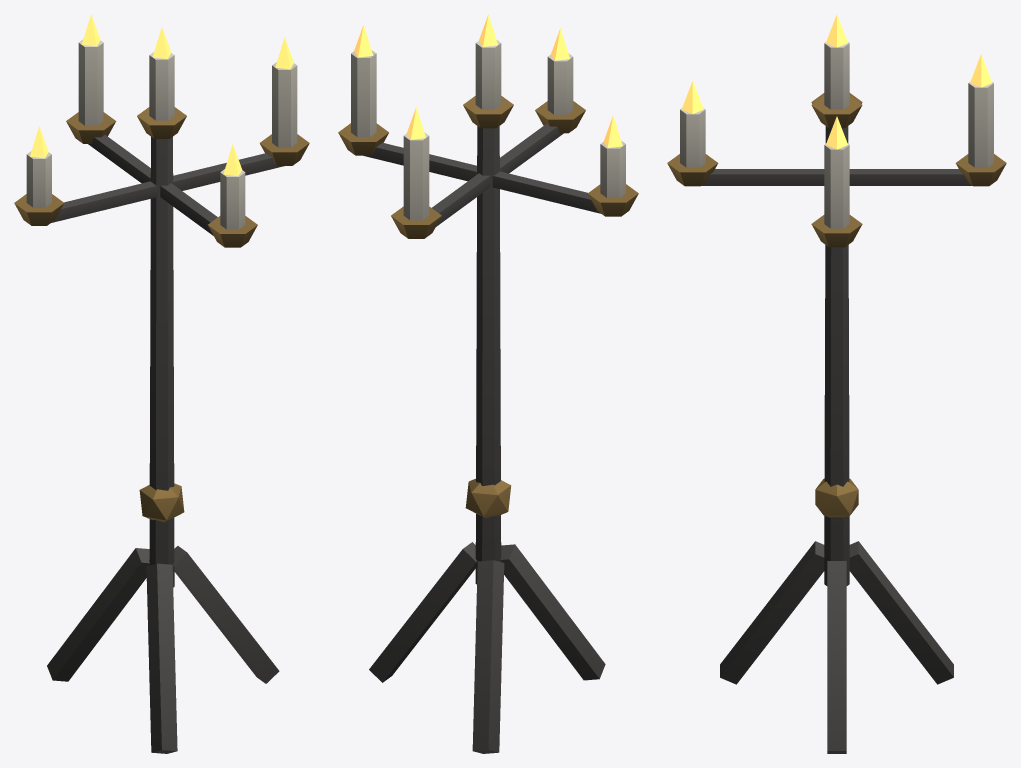
Rendered from candelabra.glb.
The picture shows the model from 3 angles, left to right: view 1: azimuth 30°, elevation 25°; view 2: azimuth 150°, elevation 25°; view 3: azimuth 270°, elevation 25°; orthographic projection.
Visible parts, largest first — view 1: candelabra_mesh; view 2: candelabra_mesh; view 3: candelabra_mesh.
Boxes of the visible parts, x1=… form: candelabra_mesh: x1=14, y1=14, x2=309, y2=753; candelabra_mesh: x1=338, y1=14, x2=638, y2=753; candelabra_mesh: x1=667, y1=14, x2=1006, y2=753.
Size of the model in its own units: 1.04 by 2.39 by 1.06.
